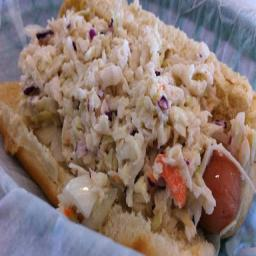hotdog: (197, 144, 244, 255)
